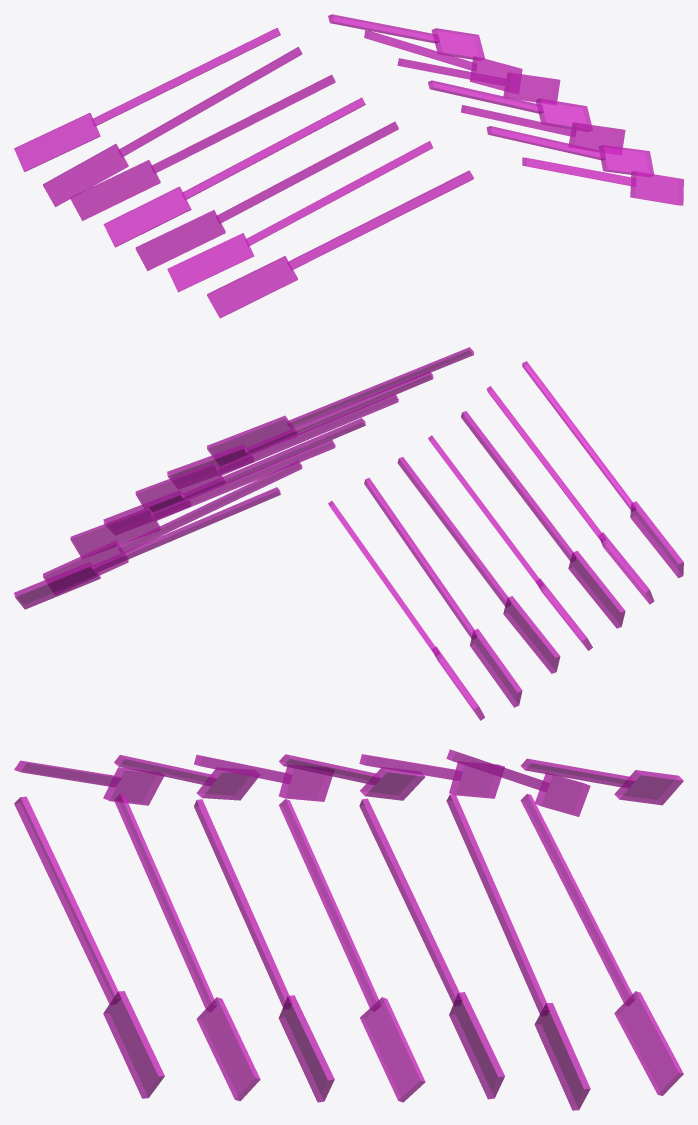
File: SM_Veh_Boat_Medium_01_Oars_01_Collision.fbx
3 renders of one model, top to bottom at view 1: azimuth 30°, elevation 25°; view 2: azimuth 150°, elevation 25°; view 3: azimuth 270°, elevation 25°, orthographic. The views are drawn at different scales.
Visible parts, largest first — view 1: SM_Veh_Boat_Medium_01_Oars_01_Collision; view 2: SM_Veh_Boat_Medium_01_Oars_01_Collision; view 3: SM_Veh_Boat_Medium_01_Oars_01_Collision.
Boxes of the visible parts, bbox=[...] form: SM_Veh_Boat_Medium_01_Oars_01_Collision: bbox=[14, 14, 683, 318]; SM_Veh_Boat_Medium_01_Oars_01_Collision: bbox=[14, 347, 683, 720]; SM_Veh_Boat_Medium_01_Oars_01_Collision: bbox=[14, 749, 683, 1110].
Bounding box in the file's own units: 1024 × 293 × 927.
